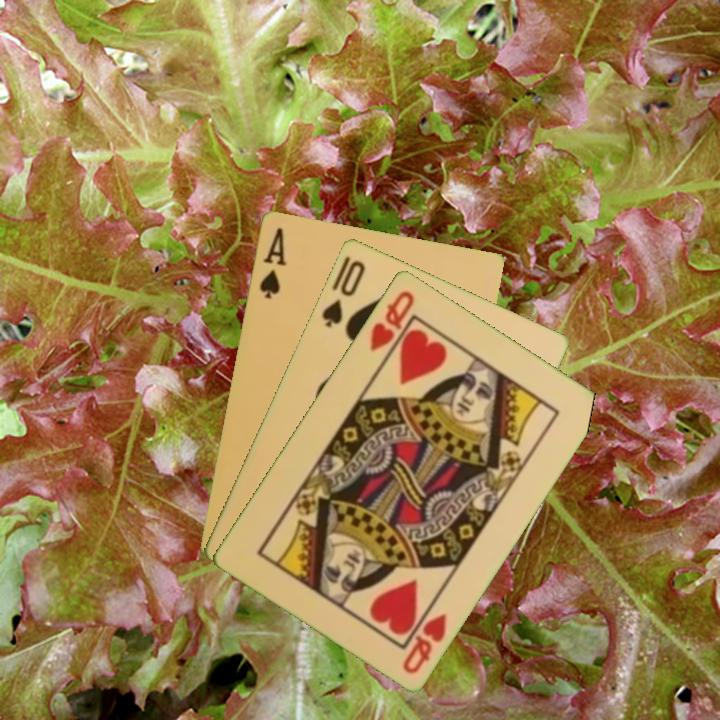10s: (318, 256, 368, 330)
As: (255, 223, 288, 301)
Qh: (398, 608, 450, 677), (366, 286, 417, 354)
